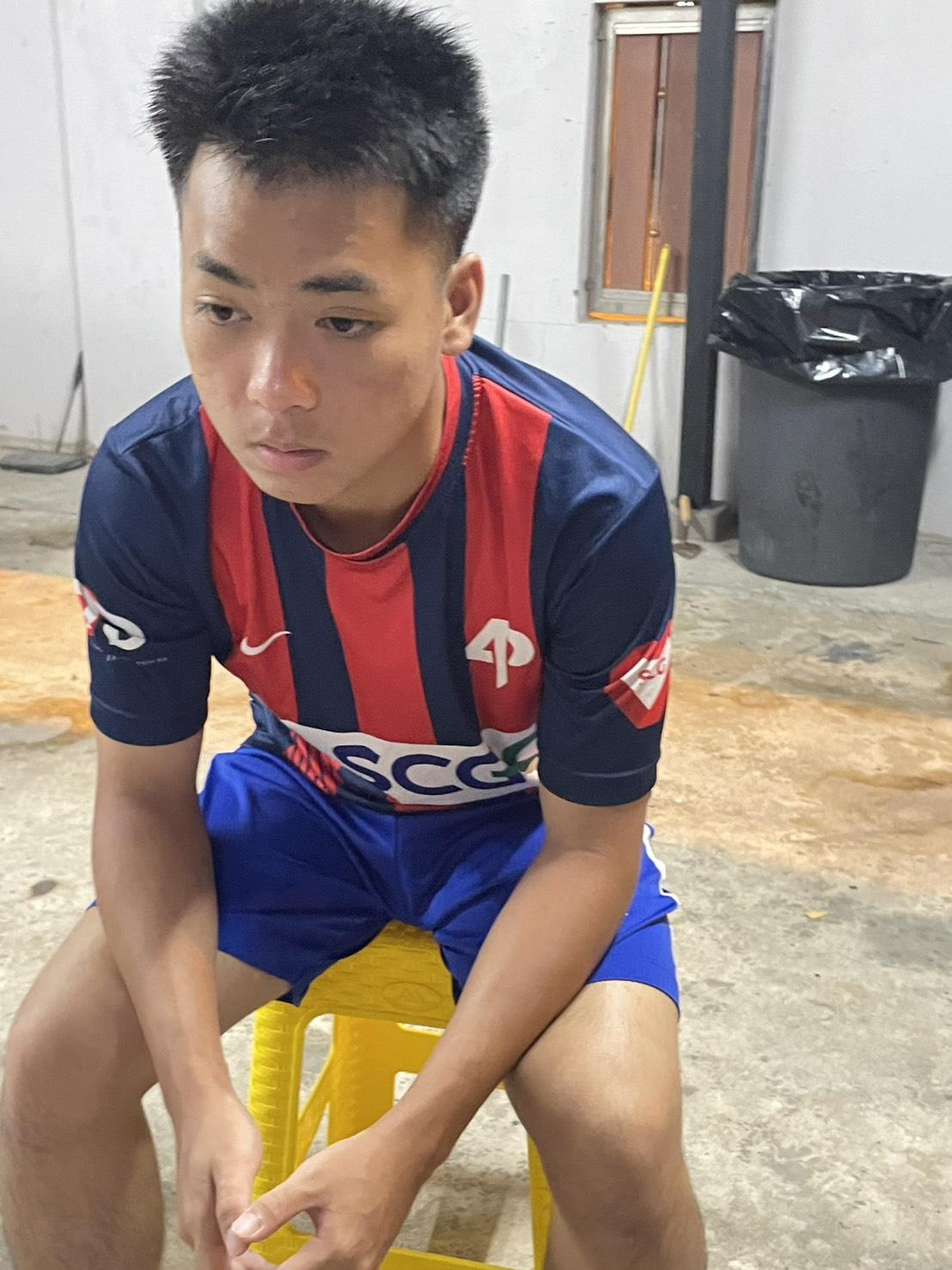BadPosture: (76, 0, 674, 811)
